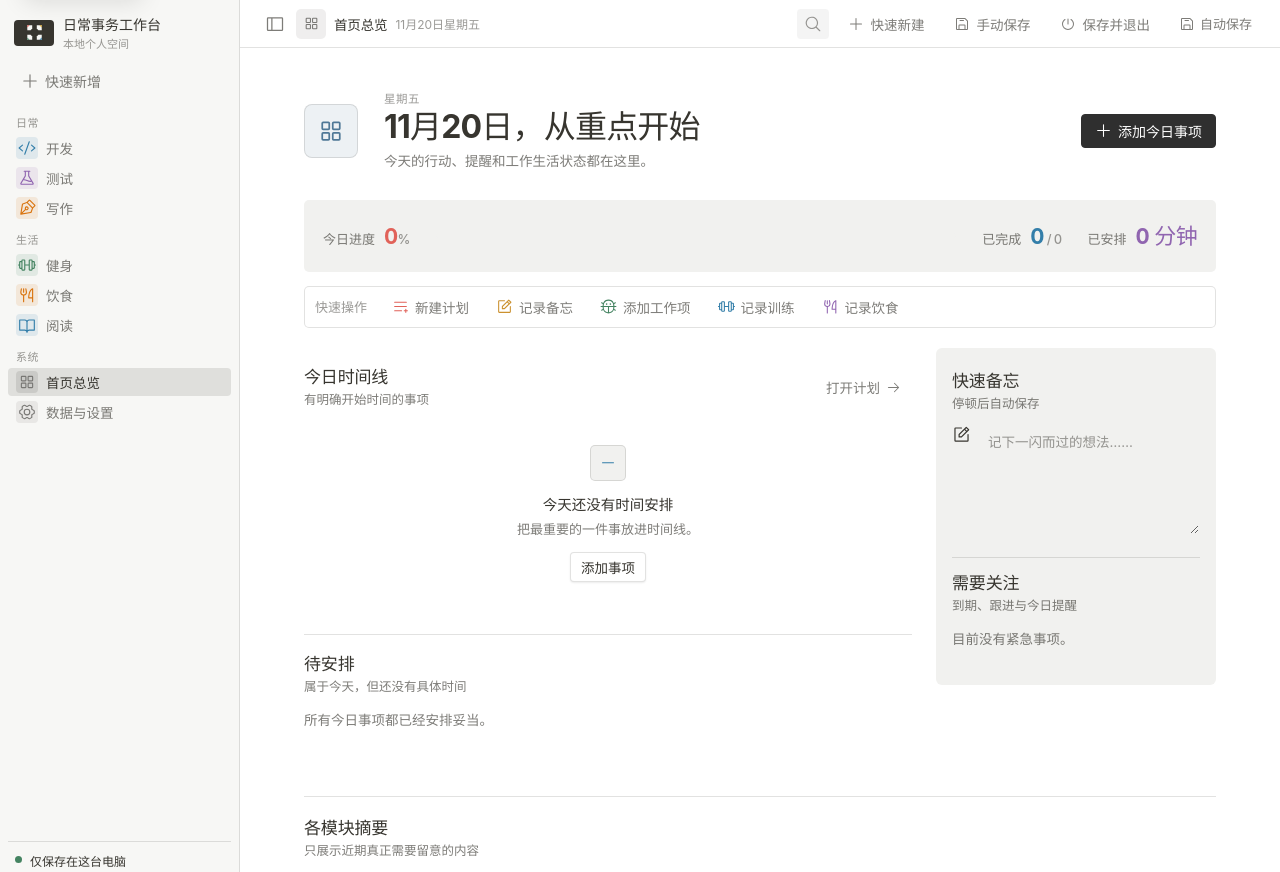
Test: application shell › saves pending data before requesting a safe service exit
Click the button "保存并退出": (1105, 24) x1=1050 y1=8 x2=1161 y2=38
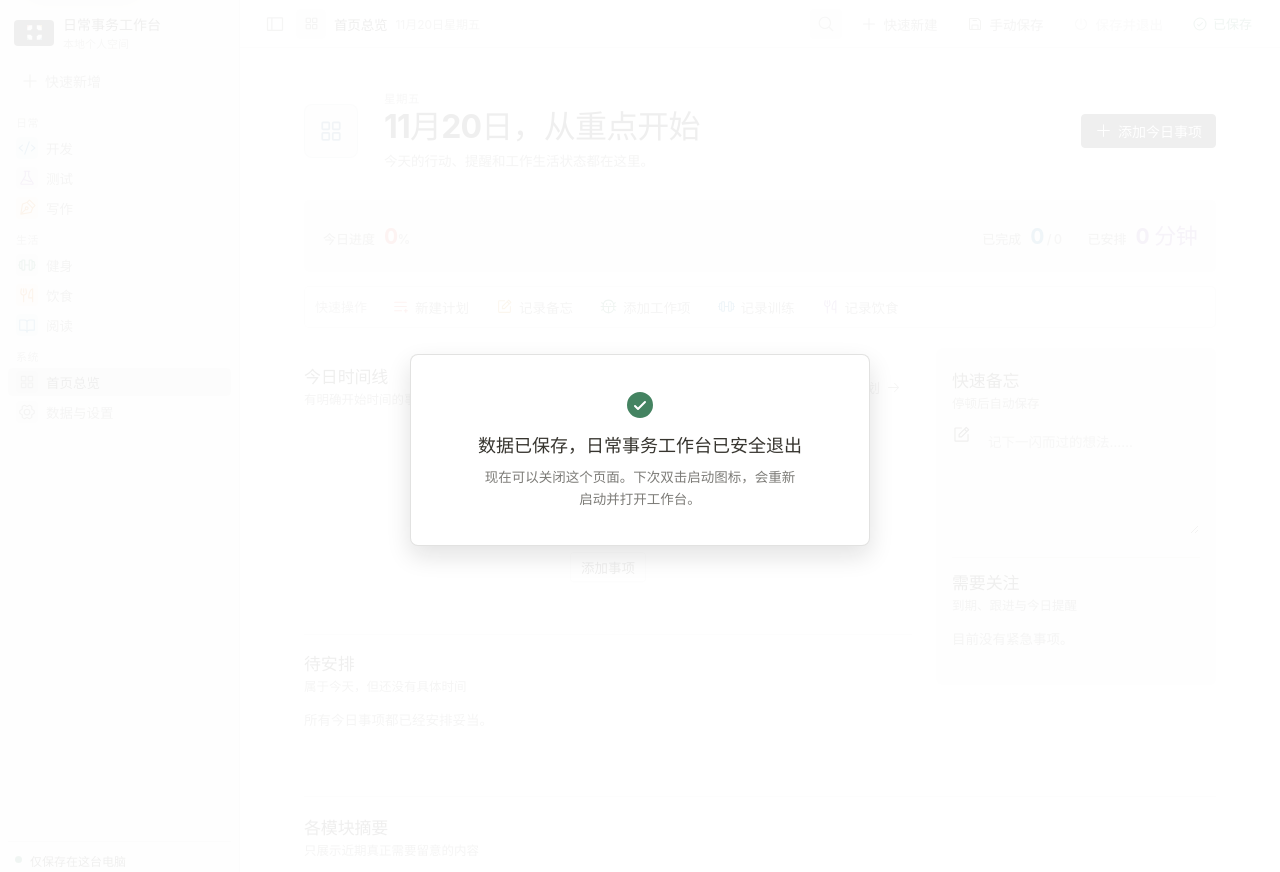
expect the text "数据已保存，日常事务工作台已安全退出" is shown: met, box x1=478 y1=431 x2=802 y2=457
